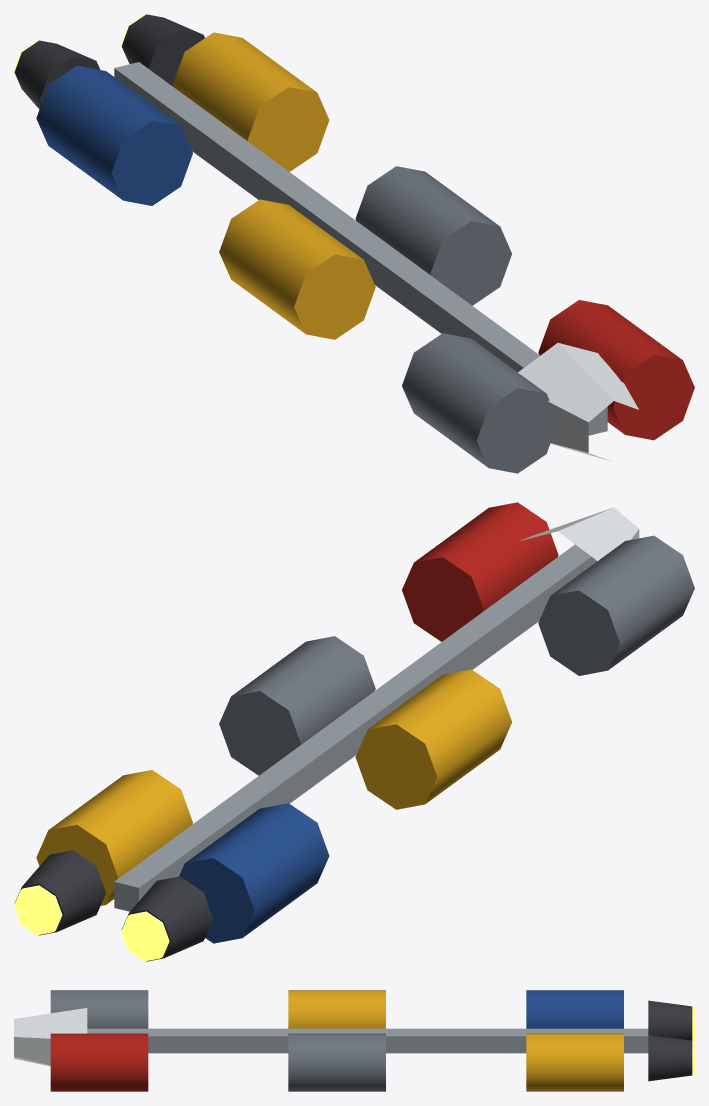
The model's file is space_ship_logistics_mk1.glb.
The picture shows the model from 3 angles, top to bottom: view 1: azimuth 30°, elevation 25°; view 2: azimuth 150°, elevation 25°; view 3: azimuth 270°, elevation 25°; orthographic projection. The views are drawn at different scales.
Parts seen in each view (by area): view 1: body, pod_1_0, pod_0_0, pod_2_0, pod_1_1, pod_0_1, pod_2_1, engine_0, engine_1; view 2: body, pod_1_0, pod_2_0, pod_0_0, pod_1_1, pod_2_1, pod_0_1, engine_1, engine_0; view 3: body, pod_2_1, pod_0_1, pod_1_1, pod_0_0, pod_1_0, pod_2_0, engine_0, engine_1.
Boxes of the visible parts, bbox=[...] form: body: bbox=[114, 62, 638, 461]; pod_1_0: bbox=[219, 199, 375, 339]; pod_0_0: bbox=[36, 65, 192, 205]; pod_2_0: bbox=[402, 333, 550, 473]; pod_1_1: bbox=[355, 166, 511, 305]; pod_0_1: bbox=[172, 32, 329, 171]; pod_2_1: bbox=[538, 300, 694, 440]; engine_0: bbox=[121, 14, 204, 86]; engine_1: bbox=[14, 40, 100, 109]; body: bbox=[114, 507, 639, 911]; pod_1_0: bbox=[355, 669, 511, 809]; pod_2_0: bbox=[538, 535, 694, 675]; pod_0_0: bbox=[179, 803, 329, 943]; pod_1_1: bbox=[219, 636, 375, 775]; pod_2_1: bbox=[402, 502, 558, 641]; pod_0_1: bbox=[36, 770, 192, 905]; engine_1: bbox=[121, 876, 212, 961]; engine_0: bbox=[14, 850, 105, 935]; body: bbox=[14, 1008, 648, 1066]; pod_2_1: bbox=[50, 1033, 148, 1091]; pod_0_1: bbox=[526, 1033, 623, 1091]; pod_1_1: bbox=[288, 1033, 385, 1091]; pod_0_0: bbox=[526, 990, 623, 1028]; pod_1_0: bbox=[288, 990, 385, 1028]; pod_2_0: bbox=[50, 990, 148, 1028]; engine_0: bbox=[648, 1034, 694, 1081]; engine_1: bbox=[648, 1000, 694, 1040].
Size of what is drawn, in the model's own units: 6.99 by 3.12 by 29.03.
